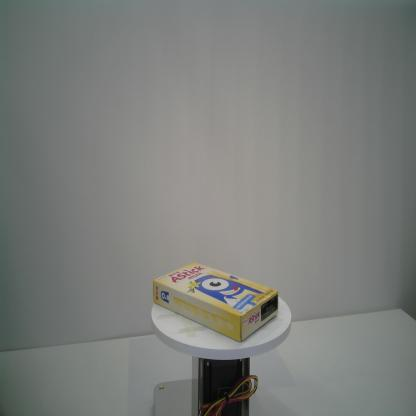Dessert: (151, 258, 280, 343)
